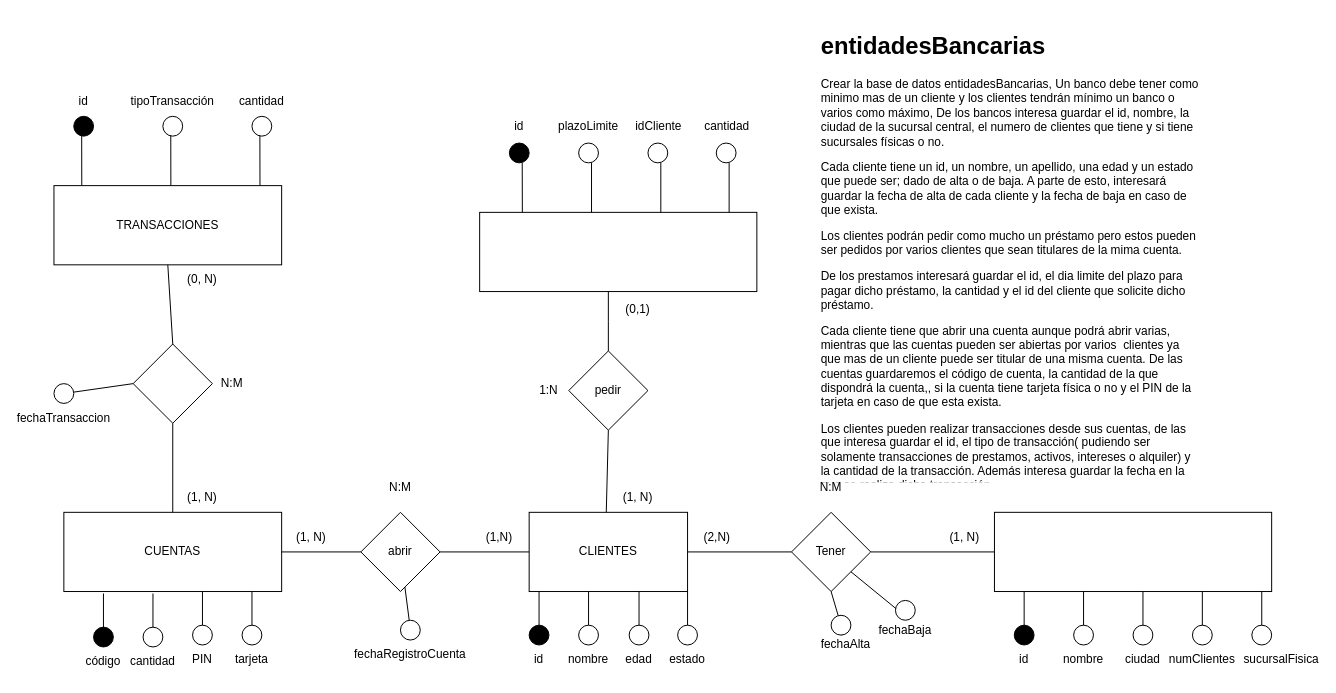
Image size: 1336x693. Some labels were removed from this diagram. The box of each missing label's shape, as (x1, y1, x2, y2) in pixels:
BANCOS: (993, 511, 1272, 592)
PRESTAMOS: (479, 211, 757, 292)
realizar: (132, 343, 212, 423)
